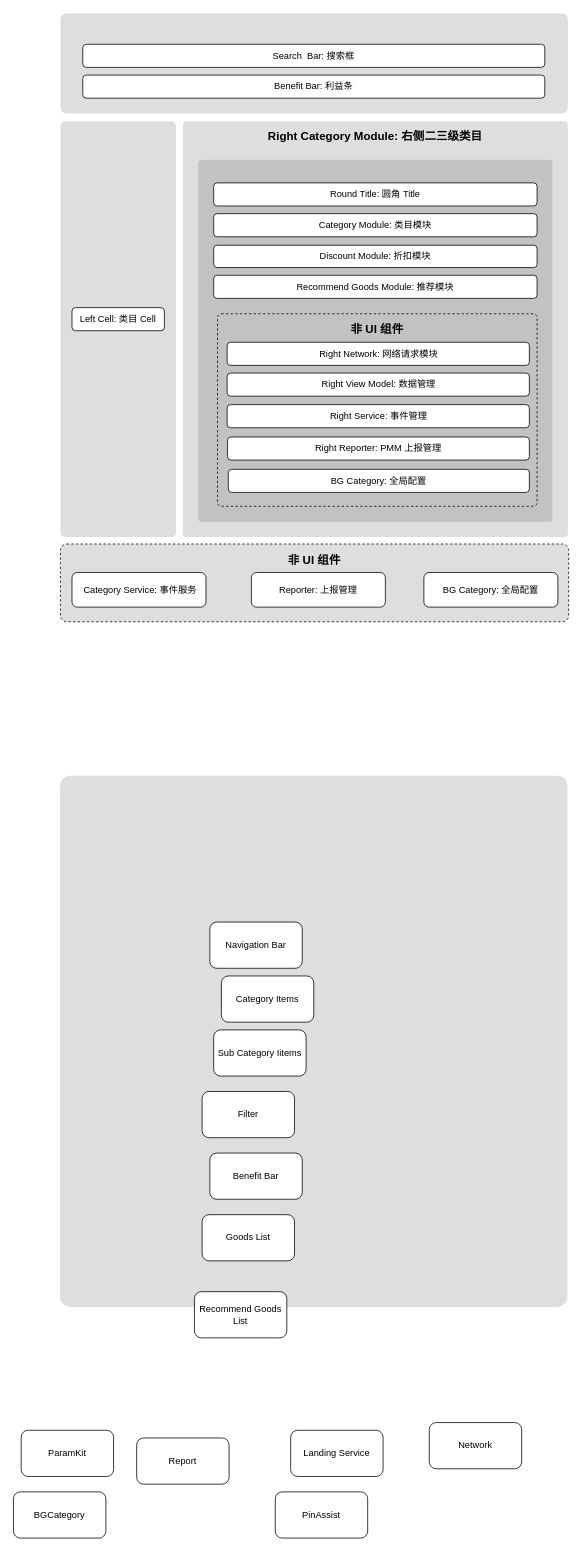
The diagram is 582 pixels wide and 1552 high, and some of its shapes have lost their labels. Each missing label, with the box of its shape:
Header Module: 分类 Tab 页头部视图: (60, 13, 567, 113)
Left Category Module: 左侧一级类目: (60, 121, 176, 537)
Vertical Pages: 上下滑动组件: (198, 159, 552, 521)
分类落地页: (60, 775, 567, 1307)
